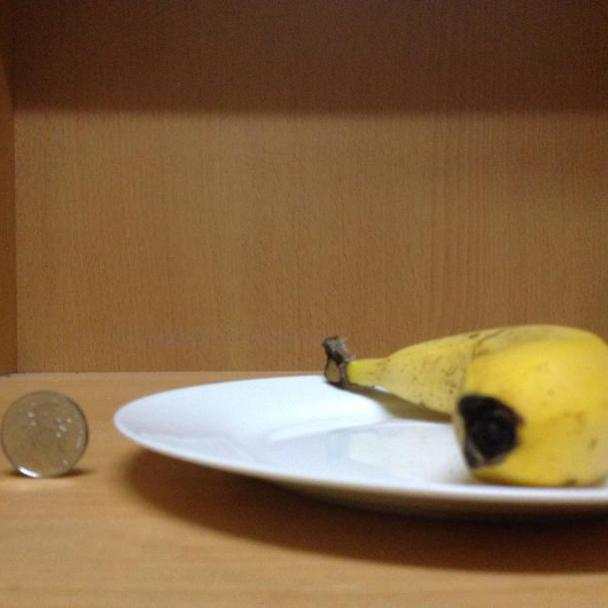banana: (318, 310, 607, 493)
